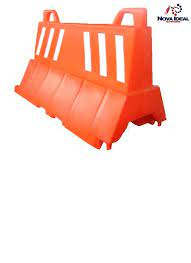obstacle: (19, 6, 168, 156)
